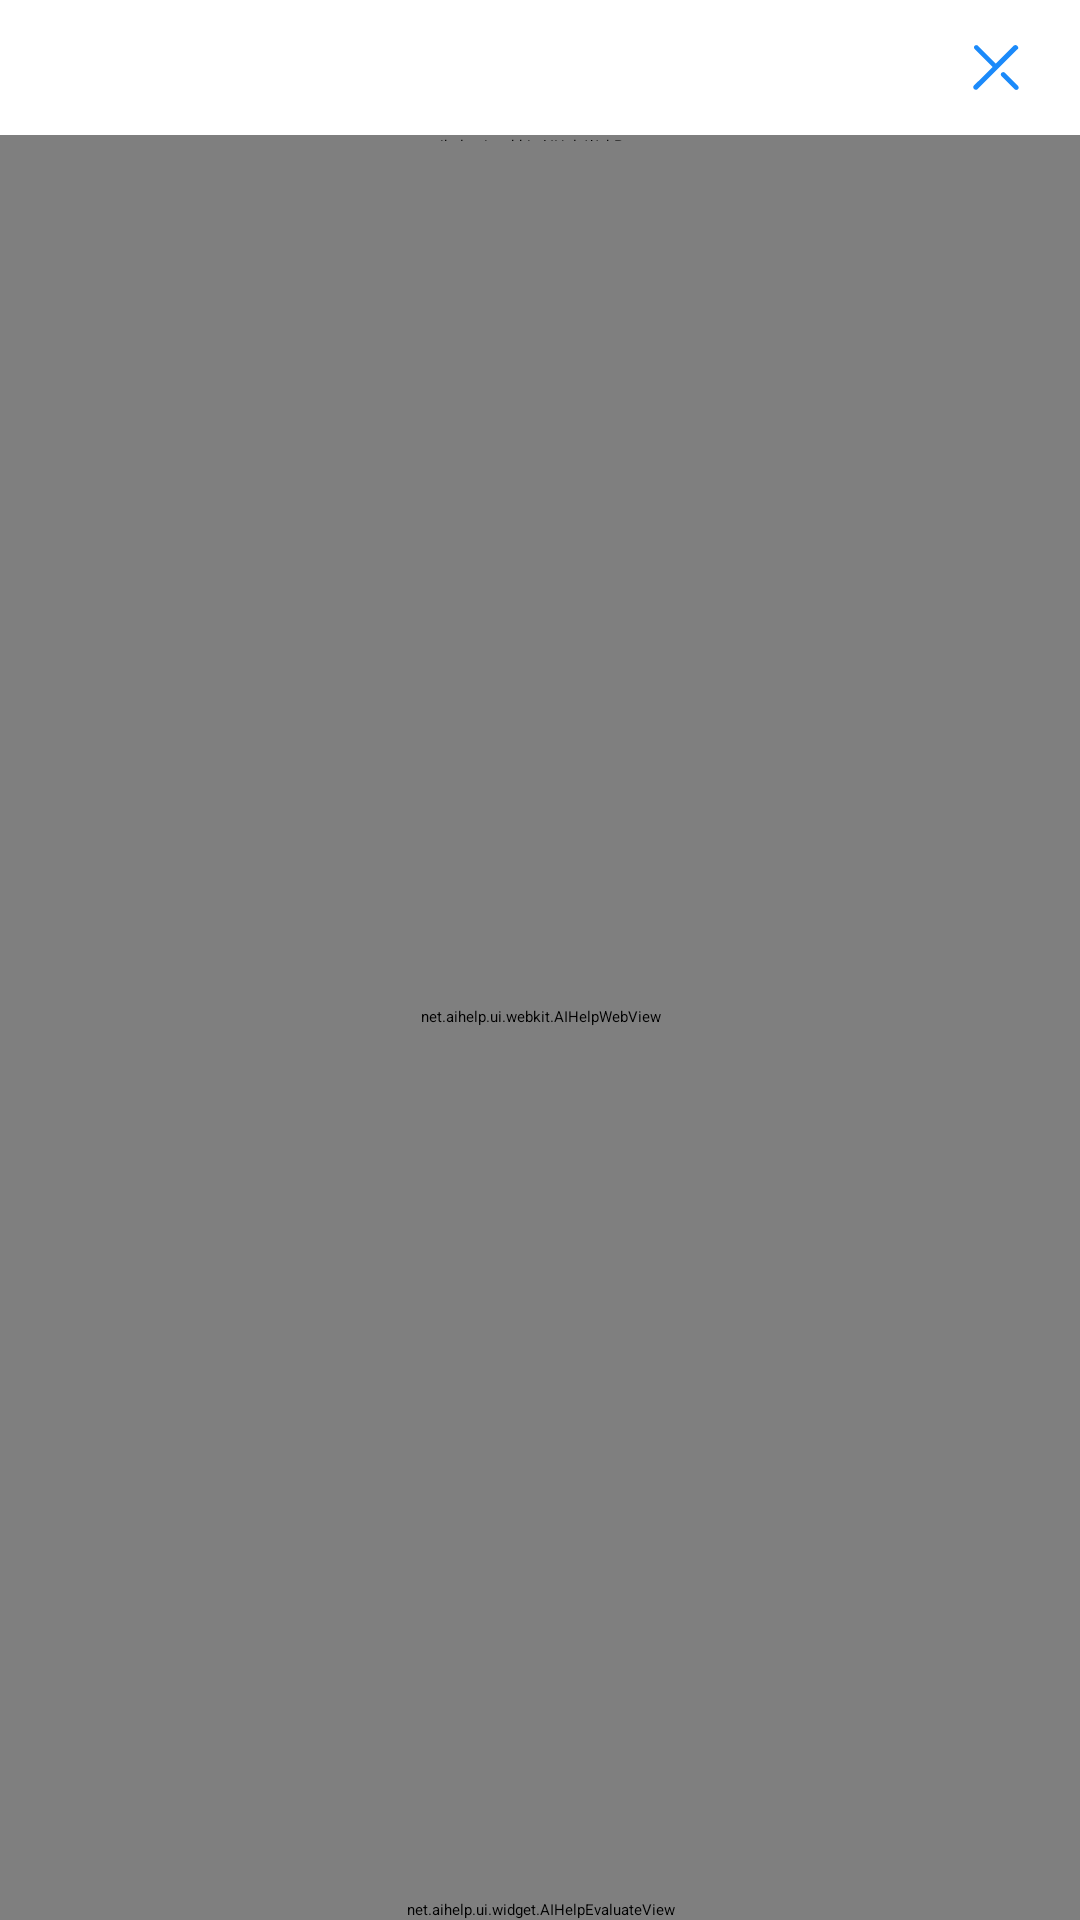

Locate icon controls on the screen. Image size 1080 x 1920, boxes as detection(x1, y1, x2, y2).
aihelp close dialog: detection(973, 45, 1019, 90)
